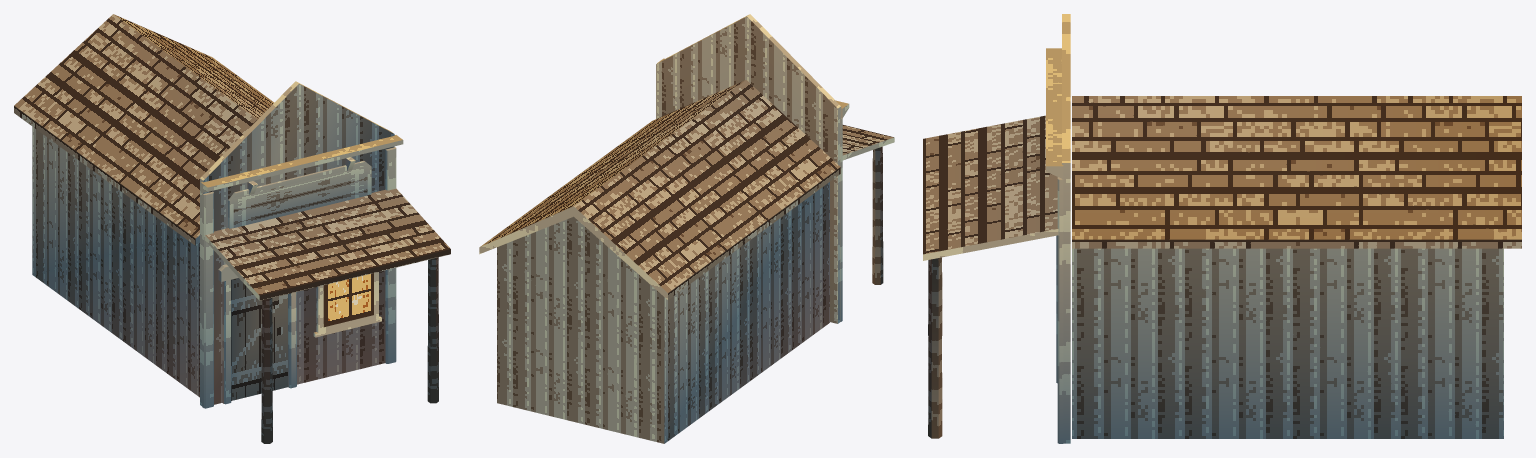
Rendered from wtown.facade__d_gabled.glb.
The picture shows the model from 3 angles, left to right: view 1: azimuth 30°, elevation 25°; view 2: azimuth 150°, elevation 25°; view 3: azimuth 270°, elevation 25°; orthographic projection. The views are drawn at different scales.
Visible parts, largest first — view 1: kit_roof, kit_body, kit_porch, kit_front, kit_card_panes, kit_trim, kit_windows; view 2: kit_body, kit_roof, kit_front, kit_porch, kit_trim; view 3: kit_body, kit_roof, kit_porch, kit_trim, kit_front.
Part boxes in pixels (left/top/right/bottom): kit_roof: left=14, top=14, right=274, bottom=245; kit_body: left=32, top=126, right=199, bottom=397; kit_porch: left=204, top=188, right=450, bottom=443; kit_front: left=200, top=81, right=394, bottom=406; kit_card_panes: left=231, top=165, right=373, bottom=400; kit_trim: left=200, top=135, right=403, bottom=408; kit_windows: left=313, top=272, right=381, bottom=337; kit_body: left=497, top=182, right=829, bottom=443; kit_roof: left=479, top=80, right=840, bottom=299; kit_front: left=656, top=14, right=841, bottom=323; kit_porch: left=842, top=125, right=894, bottom=284; kit_trim: left=657, top=58, right=849, bottom=321; kit_body: left=1072, top=248, right=1503, bottom=438; kit_roof: left=1072, top=96, right=1521, bottom=248; kit_porch: left=923, top=115, right=1058, bottom=438; kit_trim: left=1046, top=48, right=1063, bottom=443; kit_front: left=1062, top=14, right=1070, bottom=443.
Size of the model in its own units: 3.94 by 5.7 by 8.32.
Materials: 7 (7 with a texture image).
